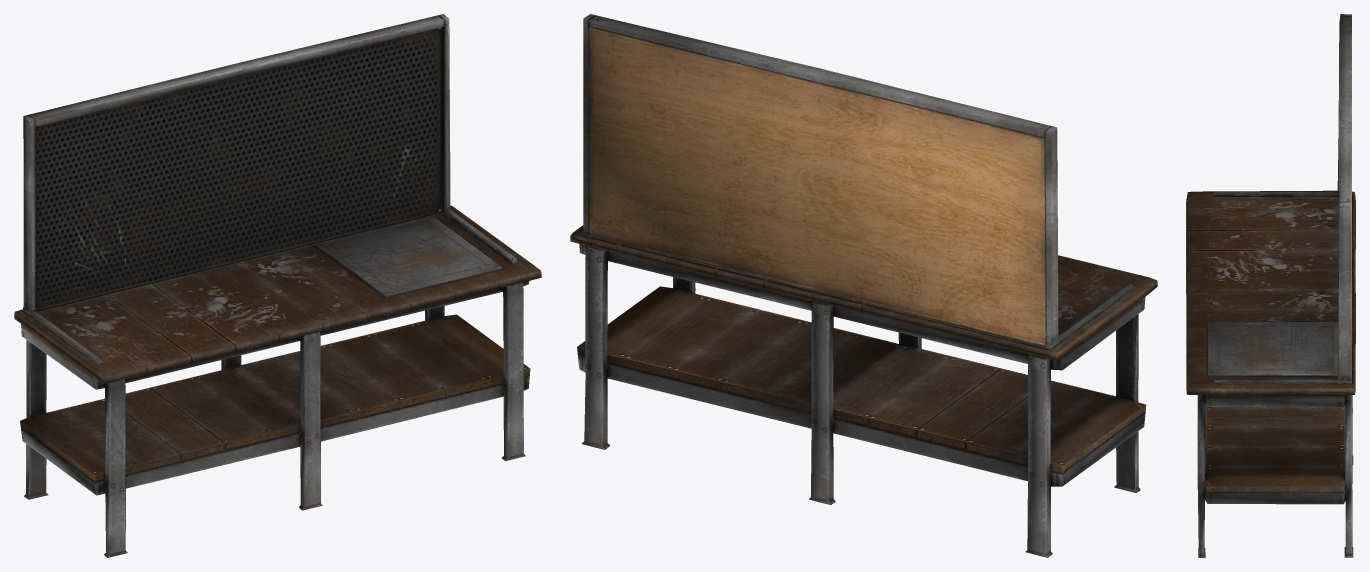
File: workbench-opt.glb
3 views of the same model, side by side, from view 1: azimuth 30°, elevation 25°; view 2: azimuth 150°, elevation 25°; view 3: azimuth 270°, elevation 25° (orthographic). The views are drawn at different scales.
Visible parts, largest first — view 1: defaultMaterial; view 2: defaultMaterial; view 3: defaultMaterial.
Part boxes in pixels (x1=…): defaultMaterial: x1=14, y1=14, x2=541, y2=557; defaultMaterial: x1=570, y1=14, x2=1157, y2=557; defaultMaterial: x1=1186, y1=14, x2=1355, y2=557.
Size of the model in its own units: 2.1 by 1.75 by 0.7605.
1 material, 1 textured.
